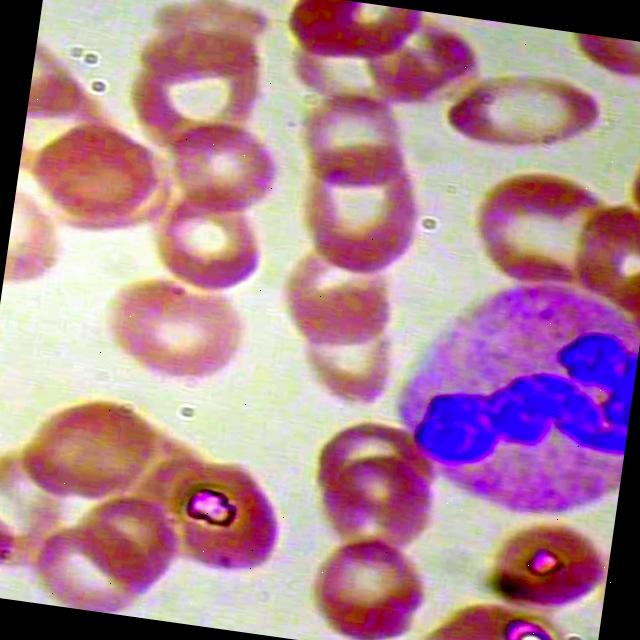RBC: (20, 384, 182, 524), (140, 441, 302, 580), (434, 59, 613, 170), (290, 158, 444, 286), (100, 261, 252, 387), (312, 443, 464, 557), (295, 528, 447, 640), (278, 244, 421, 358), (266, 302, 404, 418), (31, 119, 168, 235), (156, 112, 292, 228), (154, 194, 278, 298), (279, 0, 423, 80)
WBC: (378, 258, 640, 531)
